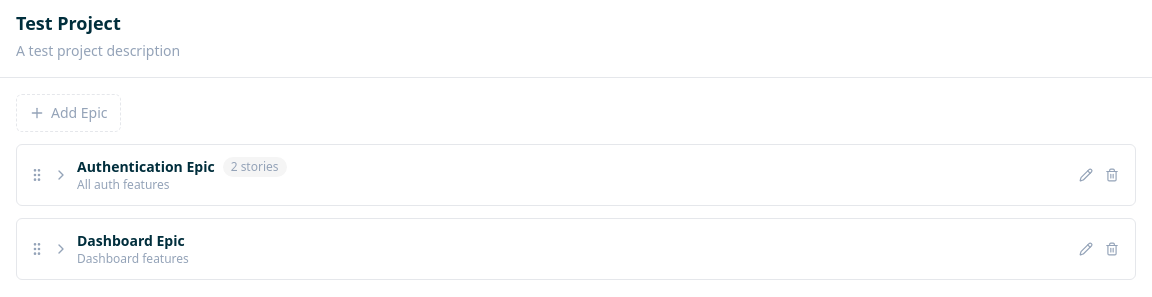
it: T-3.3.02: CRUD operations on items › deletes an item optimistically
The width and height of the screenshot is (1152, 297).
Expected: the element with test id "epic-card-epic-1" is shown, [16,144,1136,206]
Click the button with test id "delete-item-epic-1": x=1112, y=175 [1101,164,1123,186]
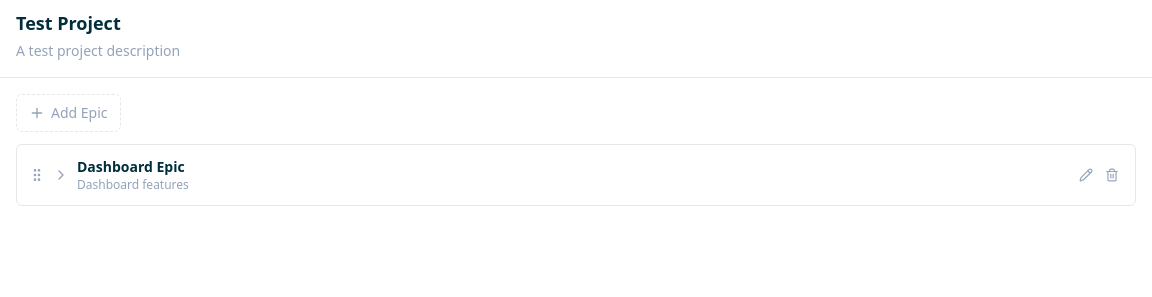
Expected: the element with test id "epic-card-epic-1" is gone
